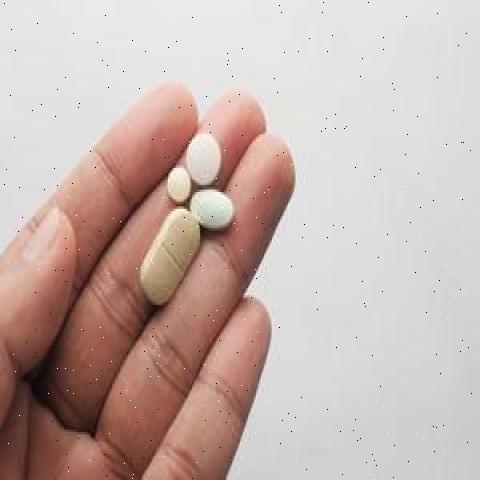hands: (132, 199, 208, 313), (182, 125, 232, 189), (190, 187, 243, 229), (162, 158, 194, 205)
